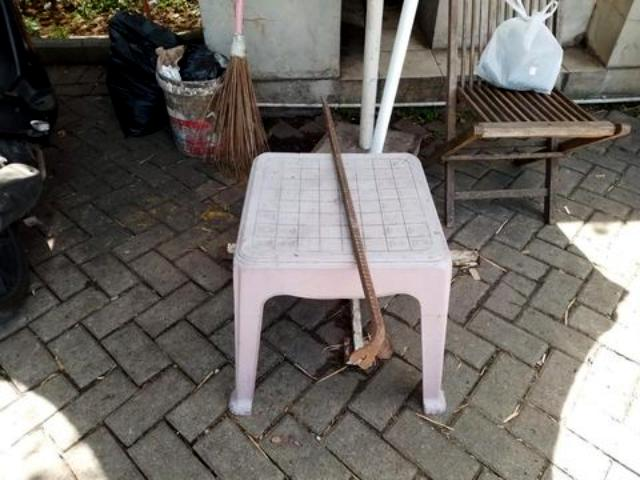crow bar: (320, 88, 388, 371)
